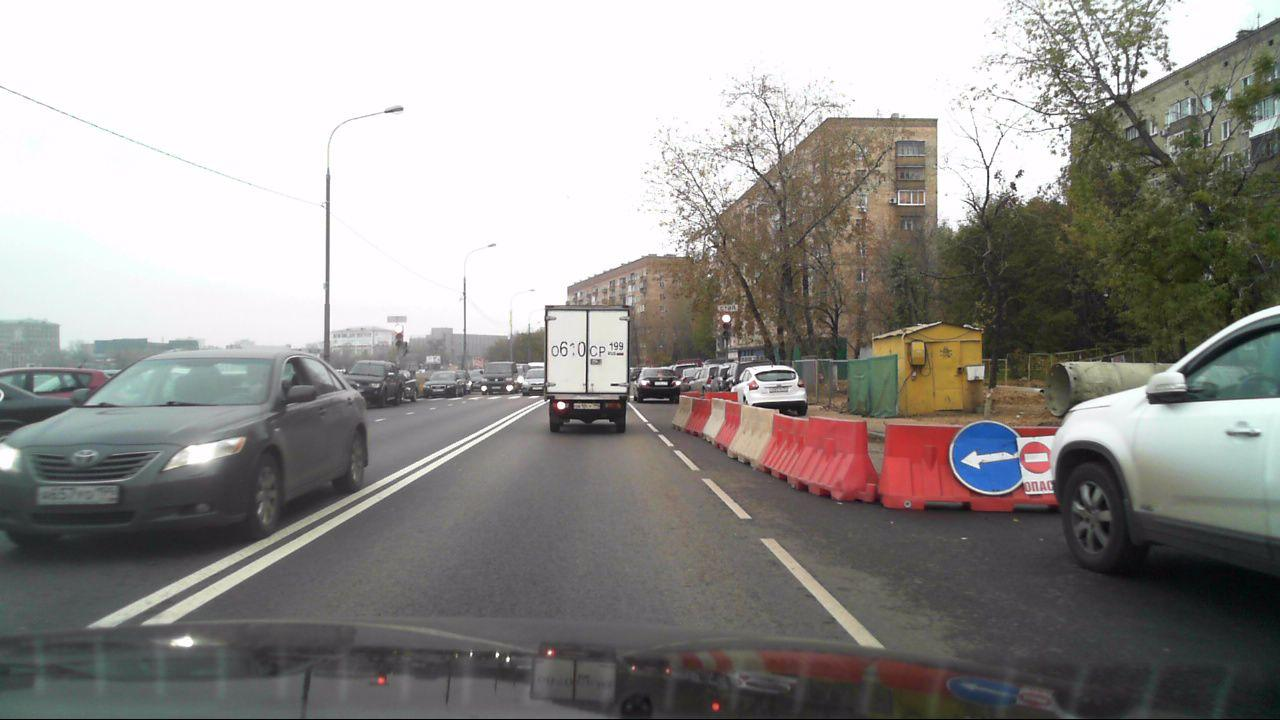4_2_2: (949, 420, 1021, 494)
